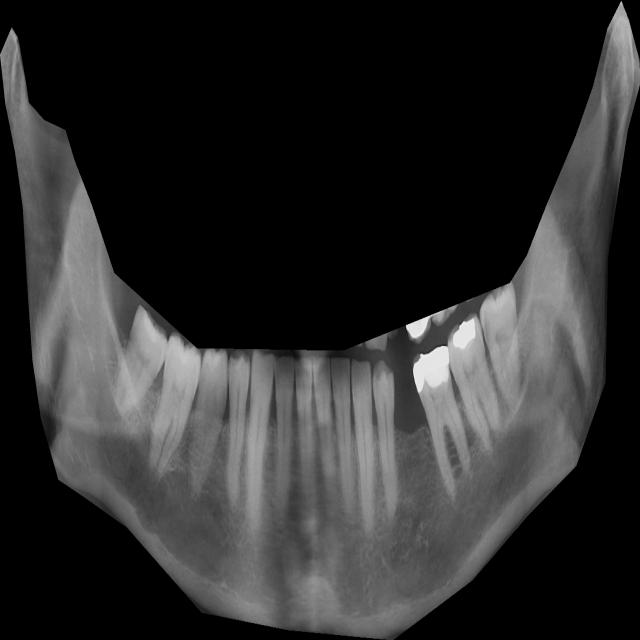mandibula: (0, 1, 640, 640)
